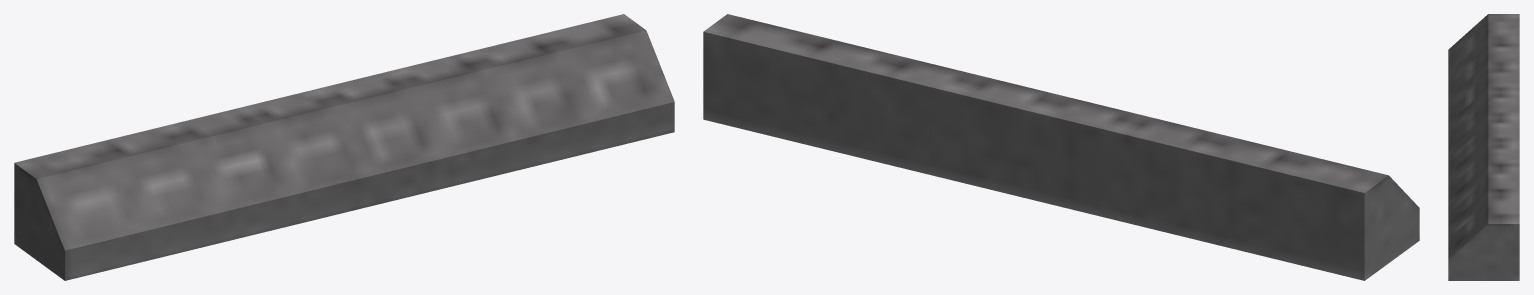
The model's file is B6_TopStand.FBX.
The picture shows the model from 3 angles, left to right: view 1: azimuth 30°, elevation 25°; view 2: azimuth 150°, elevation 25°; view 3: azimuth 270°, elevation 25°; orthographic projection. The views are drawn at different scales.
Parts seen in each view (by area): view 1: B6_TopStand; view 2: B6_TopStand; view 3: B6_TopStand.
Part boxes in pixels (bbox=[...]): B6_TopStand: bbox=[14, 14, 674, 280]; B6_TopStand: bbox=[703, 14, 1419, 280]; B6_TopStand: bbox=[1448, 14, 1519, 280].
Bounding box in the file's own units: 4 × 0.508 × 0.5763.
